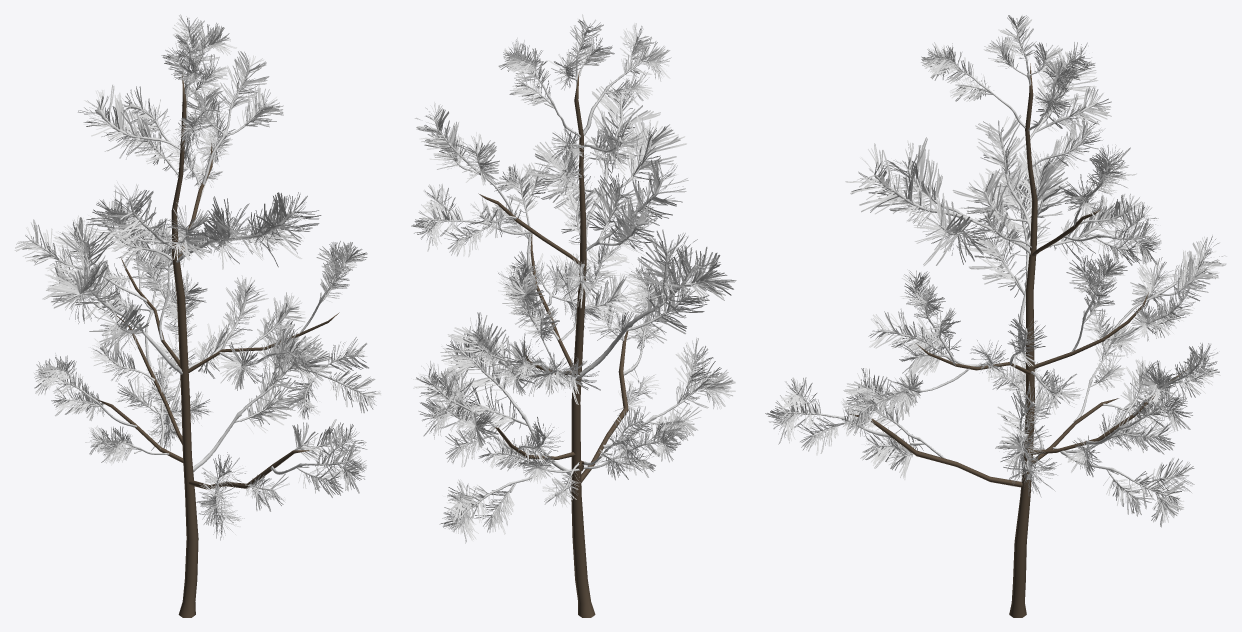
File: pine_sapling_small_b.fbx
3 views of the same model, side by side, from view 1: azimuth 30°, elevation 25°; view 2: azimuth 150°, elevation 25°; view 3: azimuth 270°, elevation 25° (orthographic). The views are drawn at different scales.
Parts seen in each view (by area): view 1: pine_sapling_small_b_LOD0; view 2: pine_sapling_small_b_LOD0; view 3: pine_sapling_small_b_LOD0.
Part boxes in pixels (box(x1,y1,x2,y2)): pine_sapling_small_b_LOD0: box(14, 14, 381, 617); pine_sapling_small_b_LOD0: box(411, 14, 736, 617); pine_sapling_small_b_LOD0: box(765, 14, 1226, 617).
Size of what is drawn, in the model's own units: 0.5288 by 1.05 by 0.7303.
